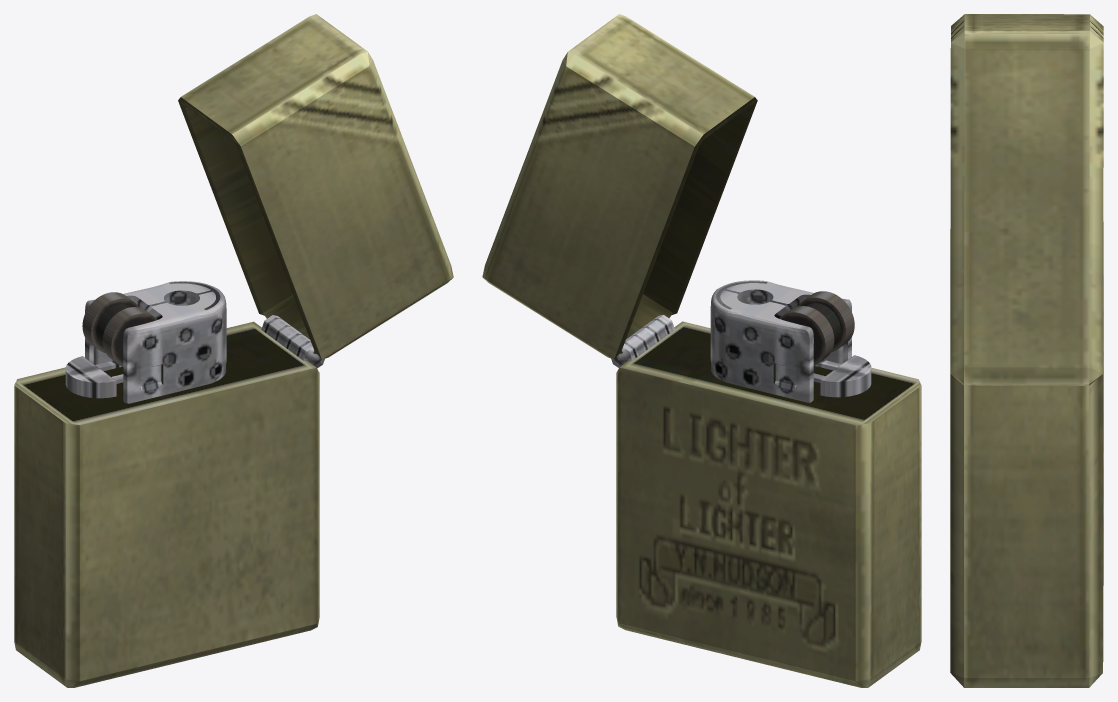
File: lighter.FBX
3 renders of one model, left to right at view 1: azimuth 30°, elevation 25°; view 2: azimuth 150°, elevation 25°; view 3: azimuth 270°, elevation 25°, orthographic. The views are drawn at different scales.
Visible parts, largest first — view 1: Object_001_Mesh_001_Material_001_p_RE1_lighter_png, Object_002_Mesh_002_Material_001_p_RE1_lighter_png, Object_000_Mesh_000_Material_p_RE1_lighter_png; view 2: Object_001_Mesh_001_Material_001_p_RE1_lighter_png, Object_002_Mesh_002_Material_001_p_RE1_lighter_png, Object_000_Mesh_000_Material_p_RE1_lighter_png; view 3: Object_002_Mesh_002_Material_001_p_RE1_lighter_png, Object_001_Mesh_001_Material_001_p_RE1_lighter_png.
Part boxes in pixels (box(x1,y1,x2,y2)): Object_001_Mesh_001_Material_001_p_RE1_lighter_png: box(14, 315, 324, 687); Object_002_Mesh_002_Material_001_p_RE1_lighter_png: box(178, 14, 453, 359); Object_000_Mesh_000_Material_p_RE1_lighter_png: box(65, 281, 226, 403); Object_001_Mesh_001_Material_001_p_RE1_lighter_png: box(611, 315, 921, 687); Object_002_Mesh_002_Material_001_p_RE1_lighter_png: box(482, 14, 757, 359); Object_000_Mesh_000_Material_p_RE1_lighter_png: box(710, 280, 871, 402); Object_002_Mesh_002_Material_001_p_RE1_lighter_png: box(950, 14, 1103, 385); Object_001_Mesh_001_Material_001_p_RE1_lighter_png: box(950, 222, 1103, 687).
Bounding box in the file's own units: 68 × 94.57 × 19.18.
1 material, 1 textured.
